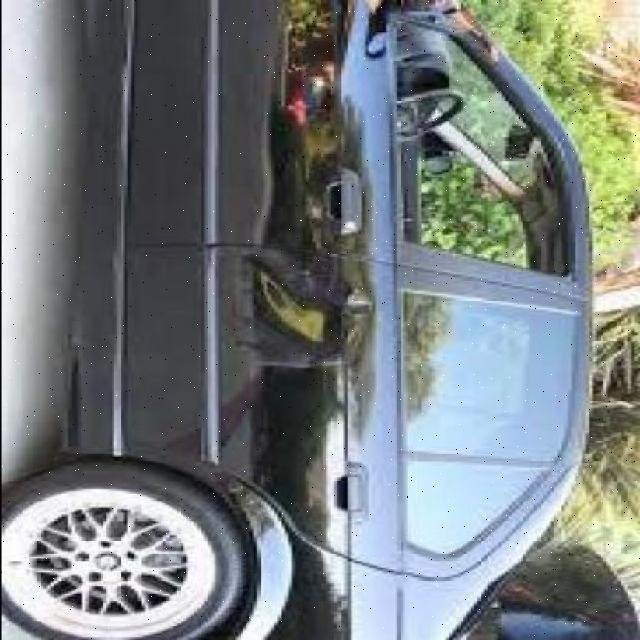damage: (219, 250, 379, 379)
